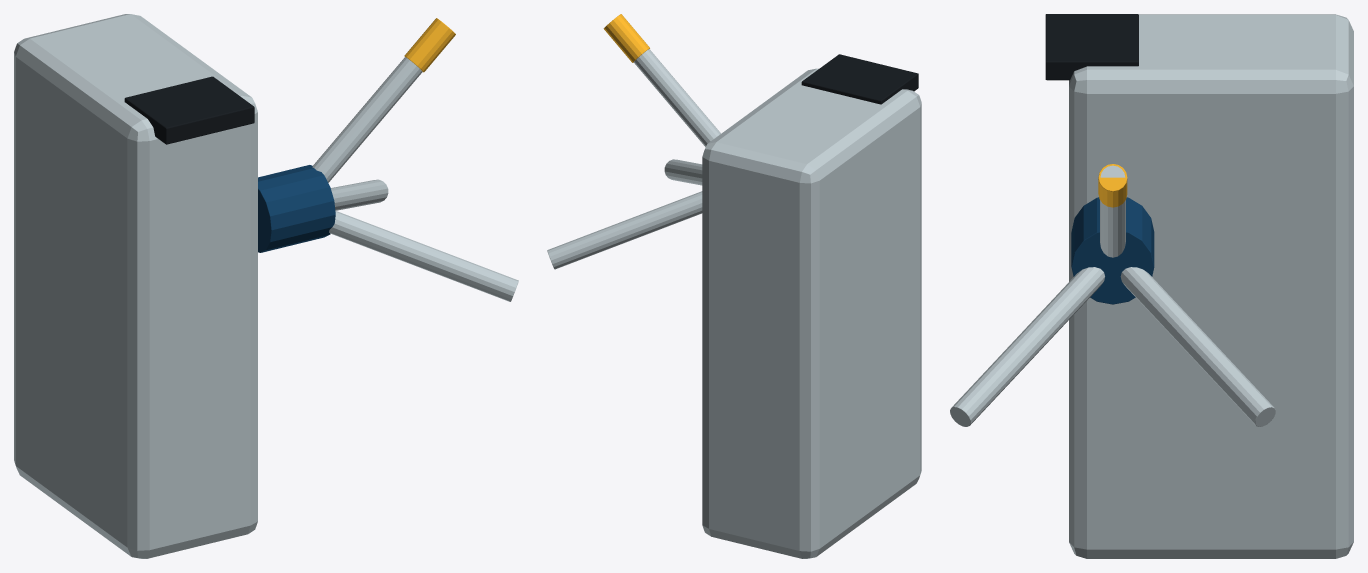
3 views of the same model, side by side, from view 1: azimuth 30°, elevation 25°; view 2: azimuth 150°, elevation 25°; view 3: azimuth 270°, elevation 25° (orthographic). The views are drawn at different scales.
Visible parts, largest first — view 1: CABINET, TRIPOD_Hub, READER, TRIPOD_Arm.002, TRIPOD_Arm, TRIPOD_GripMarker, TRIPOD_Arm.001; view 2: CABINET, READER, TRIPOD_Arm.001, TRIPOD_Arm, TRIPOD_GripMarker, TRIPOD_Arm.002; view 3: CABINET, TRIPOD_Arm.001, TRIPOD_Arm.002, READER, TRIPOD_Hub, TRIPOD_Arm, TRIPOD_GripMarker.
Part boxes in pixels (x1=…): CABINET: x1=14, y1=14, x2=257, y2=558; TRIPOD_Hub: x1=258, y1=165, x2=335, y2=252; READER: x1=124, y1=76, x2=254, y2=144; TRIPOD_Arm.002: x1=329, y1=210, x2=518, y2=301; TRIPOD_Arm: x1=312, y1=57, x2=422, y2=182; TRIPOD_GripMarker: x1=404, y1=18, x2=455, y2=72; TRIPOD_Arm.001: x1=330, y1=179, x2=388, y2=210; CABINET: x1=702, y1=68, x2=921, y2=558; READER: x1=801, y1=54, x2=918, y2=104; TRIPOD_Arm.001: x1=547, y1=191, x2=702, y2=269; TRIPOD_Arm: x1=633, y1=49, x2=720, y2=146; TRIPOD_GripMarker: x1=603, y1=14, x2=649, y2=62; TRIPOD_Arm.002: x1=664, y1=159, x2=702, y2=185; CABINET: x1=1069, y1=14, x2=1353, y2=558; TRIPOD_Arm.001: x1=1120, y1=267, x2=1275, y2=426; TRIPOD_Arm.002: x1=950, y1=267, x2=1104, y2=426; READER: x1=1045, y1=14, x2=1138, y2=80; TRIPOD_Hub: x1=1071, y1=197, x2=1154, y2=304; TRIPOD_Arm: x1=1100, y1=165, x2=1125, y2=257; TRIPOD_GripMarker: x1=1098, y1=164, x2=1127, y2=207.
Bounding box in the file's own units: 0.8383 × 1.08 × 0.7792.
